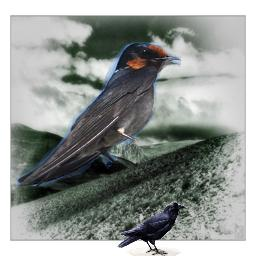Crow: (117, 202, 186, 256)
Swallow: (16, 42, 181, 186)
